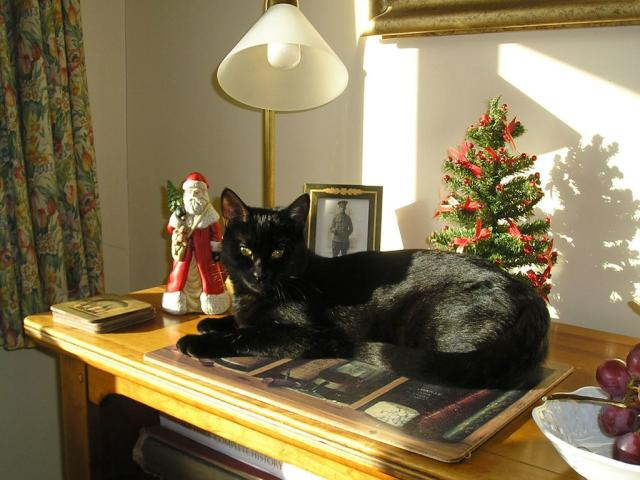Cat: (177, 187, 551, 390)
